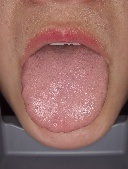tongue: (18, 56, 111, 136)
